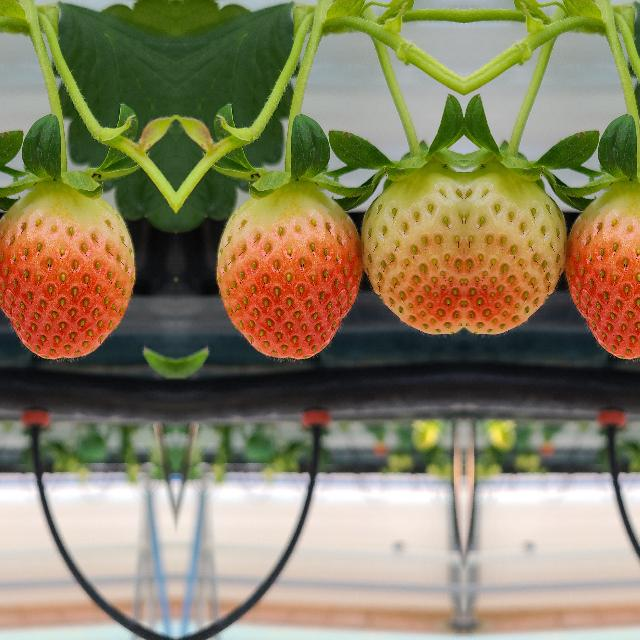Health_100: (215, 182, 361, 358), (0, 182, 135, 358), (565, 182, 640, 358)
Health_75: (363, 161, 462, 339), (463, 161, 562, 339)
